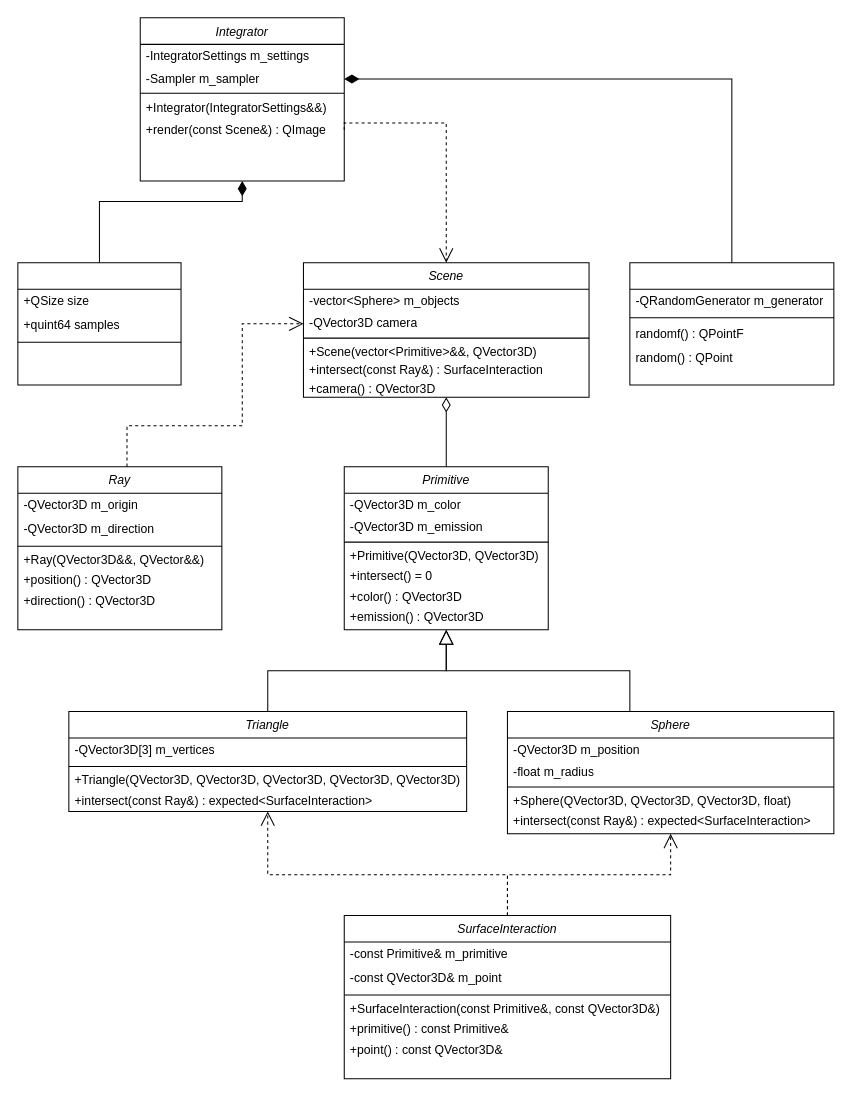
Some shapes in this 852 by 1097 pixel diagram are drawn without their labels. The box of each missing label's shape, as (x1, y1, x2, y2) in pixels:
IntegratorSettings: (17, 262, 181, 385)
Sampler: (629, 262, 834, 385)
